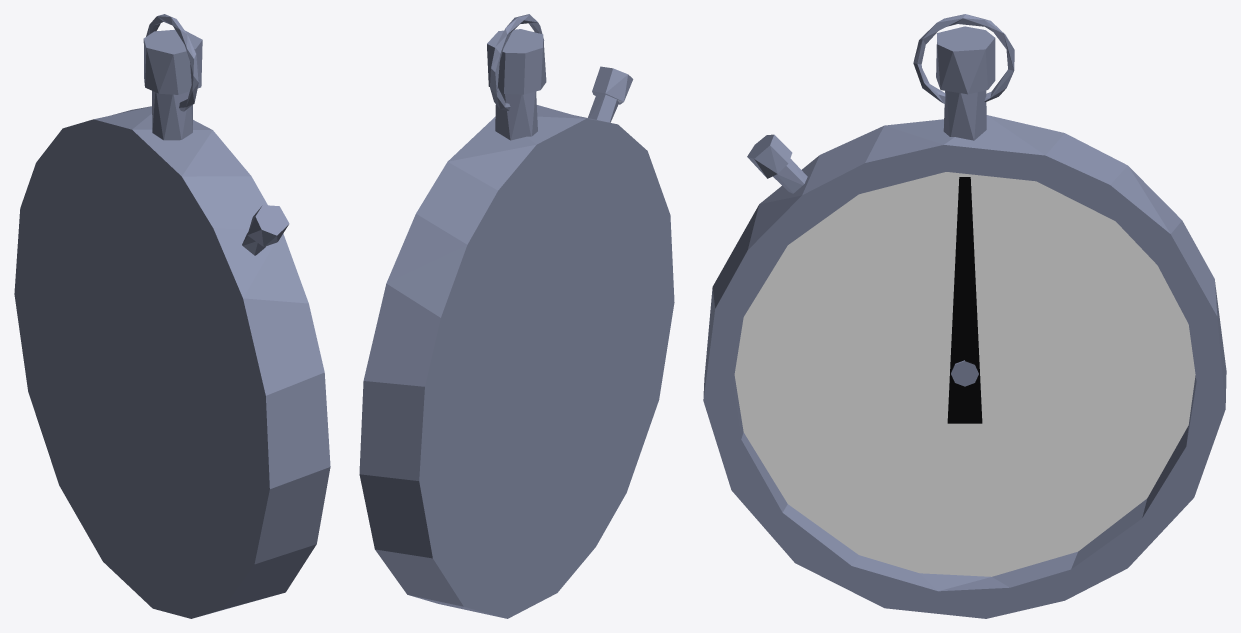
The model's file is stopwatch.glb.
3 views of the same model, side by side, from view 1: azimuth 30°, elevation 25°; view 2: azimuth 150°, elevation 25°; view 3: azimuth 270°, elevation 25° (orthographic). The views are drawn at different scales.
Visible parts, largest first — view 1: kello.001; view 2: kello.001; view 3: kello.001, viisuri.001.
Part boxes in pixels (bbox=[...]): kello.001: bbox=[14, 14, 330, 618]; kello.001: bbox=[359, 14, 674, 618]; kello.001: bbox=[703, 14, 1226, 618]; viisuri.001: bbox=[947, 177, 982, 423].
Bounding box in the file's own units: 0.3672 × 3.36 × 2.7.
2 materials, 2 textured.
